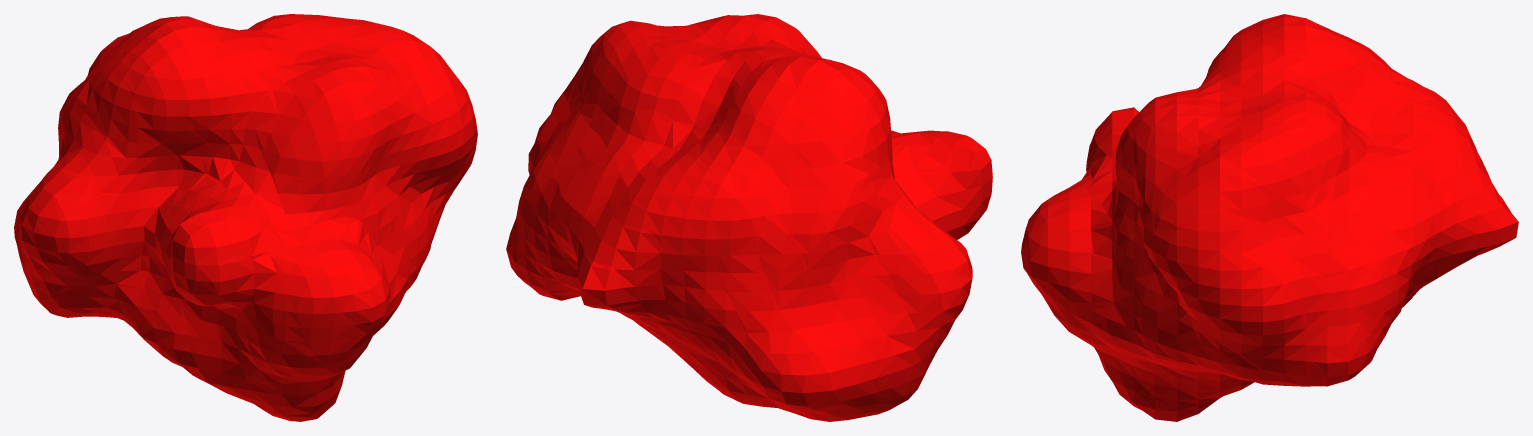
File: yeaD_coarse.dae
3 views of the same model, side by side, from view 1: azimuth 30°, elevation 25°; view 2: azimuth 150°, elevation 25°; view 3: azimuth 270°, elevation 25° (orthographic). The views are drawn at different scales.
Visible parts, largest first — view 1: yeaD; view 2: yeaD; view 3: yeaD.
Boxes of the visible parts, x1=… form: yeaD: x1=14, y1=14, x2=477, y2=421; yeaD: x1=506, y1=14, x2=992, y2=421; yeaD: x1=1021, y1=14, x2=1518, y2=421.
Bounding box in the file's own units: 59.22 × 49.13 × 60.47.
